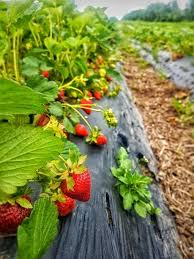ripe: (61, 165, 91, 203), (6, 199, 34, 233), (52, 187, 79, 217), (90, 131, 107, 148), (72, 123, 88, 138), (79, 97, 92, 115), (36, 114, 50, 127), (56, 88, 67, 102)
